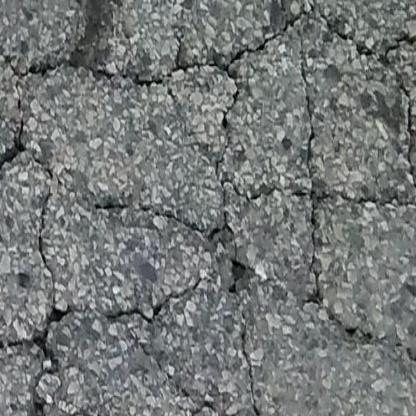Cracks: (0, 0, 416, 416), (58, 410, 121, 416)
